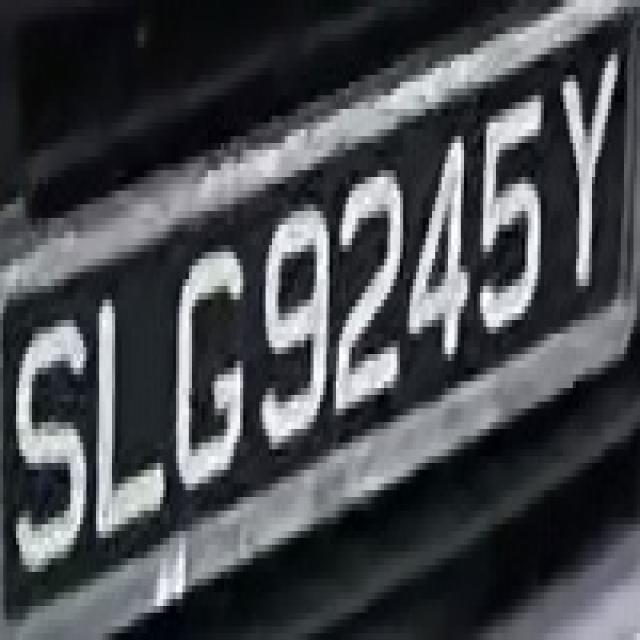2: (320, 157, 403, 463)
4: (394, 88, 476, 395)
5: (480, 89, 554, 334)
9: (262, 163, 330, 470)
G: (172, 218, 250, 517)
L: (96, 273, 170, 552)
S: (9, 292, 92, 586)
Y: (544, 54, 618, 320)
